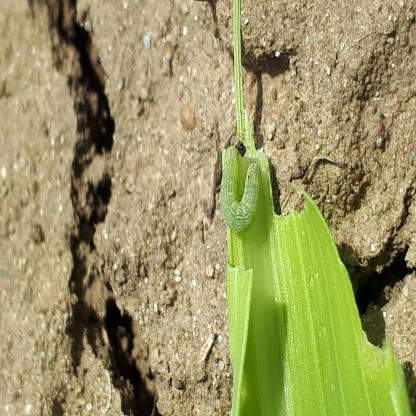armyworm: (103, 392, 152, 416)
